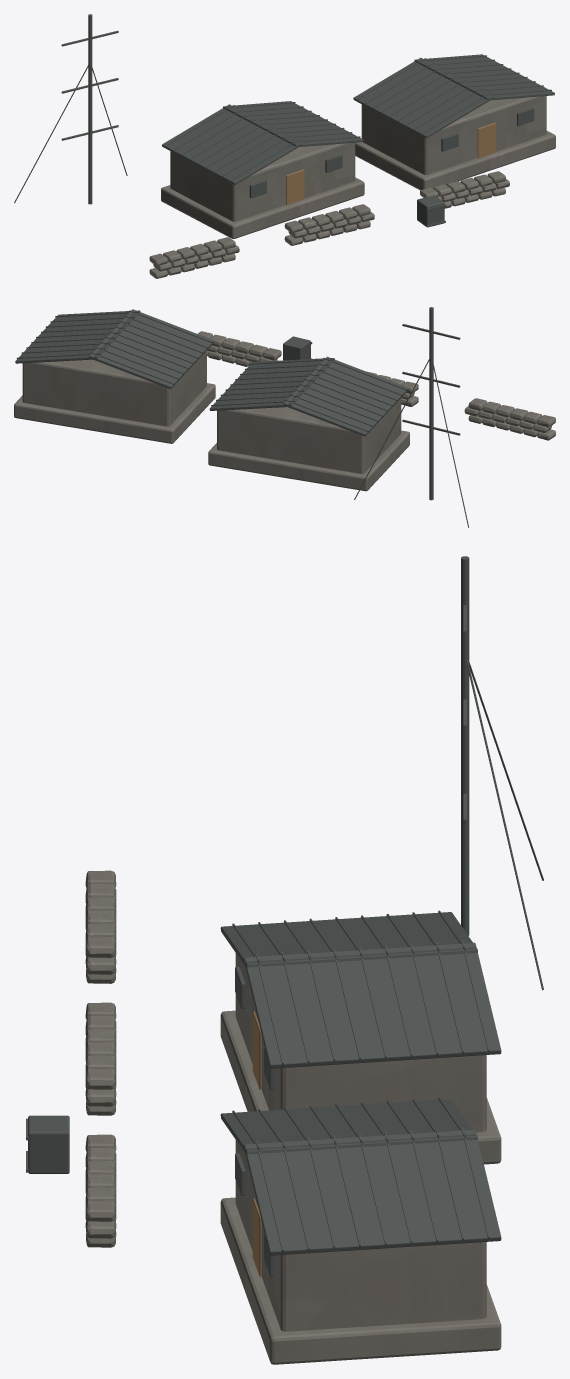
Rendered from slate-lod1.glb.
3 renders of one model, top to bottom at view 1: azimuth 30°, elevation 25°; view 2: azimuth 150°, elevation 25°; view 3: azimuth 270°, elevation 25°, orthographic. The views are drawn at different scales.
Visible parts, largest first — view 1: slate_shelter_0.001, slate_shelter_1.001, slate_retaining_wall_2.001, slate_retaining_wall_3.001, slate_antenna_5.001, slate_retaining_wall_4.001, slate_stair_6.001; view 2: slate_shelter_1.001, slate_shelter_0.001, slate_retaining_wall_2.001, slate_antenna_5.001, slate_retaining_wall_4.001, slate_stair_6.001, slate_retaining_wall_3.001; view 3: slate_shelter_1.001, slate_shelter_0.001, slate_antenna_5.001, slate_retaining_wall_4.001, slate_retaining_wall_3.001, slate_retaining_wall_2.001, slate_stair_6.001.
Part boxes in pixels (x1=…): slate_shelter_0.001: x1=161, y1=101, x2=364, y2=238; slate_shelter_1.001: x1=353, y1=54, x2=555, y2=190; slate_retaining_wall_2.001: x1=149, y1=237, x2=239, y2=278; slate_retaining_wall_3.001: x1=284, y1=204, x2=374, y2=245; slate_antenna_5.001: x1=14, y1=14, x2=127, y2=204; slate_retaining_wall_4.001: x1=420, y1=171, x2=509, y2=208; slate_stair_6.001: x1=417, y1=195, x2=445, y2=227; slate_shelter_1.001: x1=14, y1=309, x2=215, y2=443; slate_shelter_0.001: x1=208, y1=356, x2=409, y2=491; slate_retaining_wall_2.001: x1=464, y1=398, x2=555, y2=440; slate_antenna_5.001: x1=354, y1=307, x2=468, y2=527; slate_retaining_wall_4.001: x1=198, y1=331, x2=281, y2=366; slate_stair_6.001: x1=283, y1=336, x2=312, y2=360; slate_retaining_wall_3.001: x1=367, y1=371, x2=418, y2=406; slate_shelter_1.001: x1=220, y1=1097, x2=501, y2=1364; slate_shelter_0.001: x1=220, y1=910, x2=501, y2=1164; slate_antenna_5.001: x1=461, y1=556, x2=543, y2=990; slate_retaining_wall_4.001: x1=85, y1=1134, x2=116, y2=1247; slate_retaining_wall_3.001: x1=85, y1=1002, x2=116, y2=1115; slate_retaining_wall_2.001: x1=85, y1=870, x2=116, y2=983; slate_stair_6.001: x1=26, y1=1115, x2=69, y2=1173.
Bounding box in the file's own units: 42.11 × 17 × 19.93.
3 materials, 3 textured.
